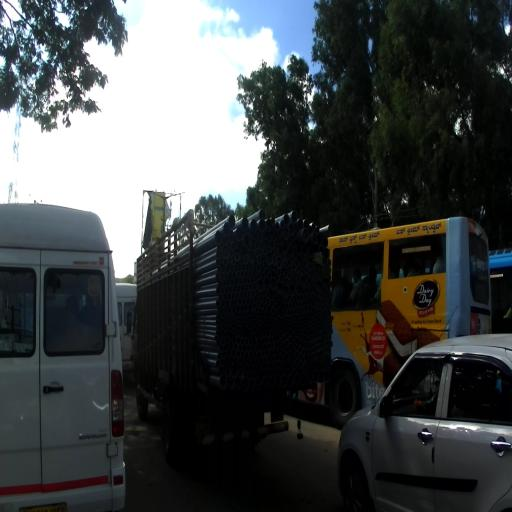street_light_0: (144, 190, 165, 203), (164, 192, 186, 204)
